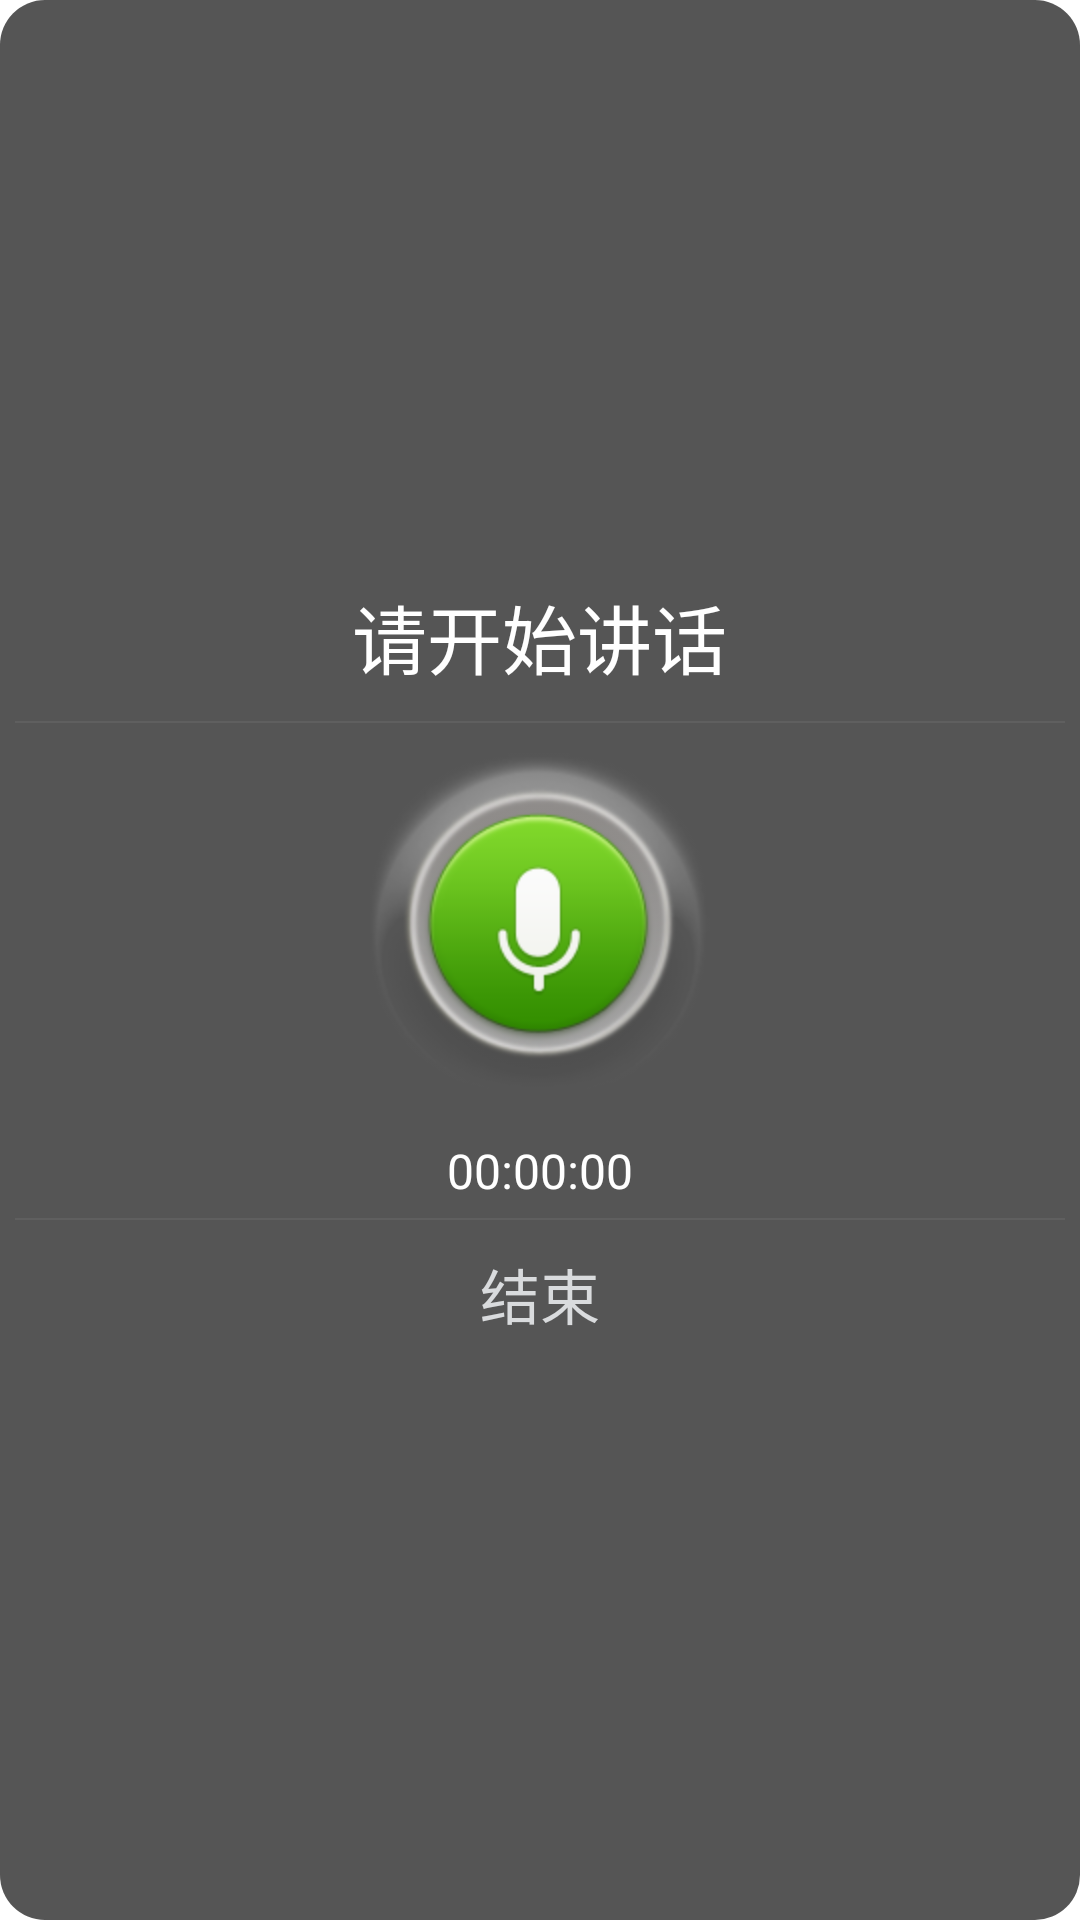

Locate icon controls on the screen. Image size 1080×1920, boxes as BBox(x1, y1, x2, y2).
mike: BBox(386, 766, 690, 1055)
